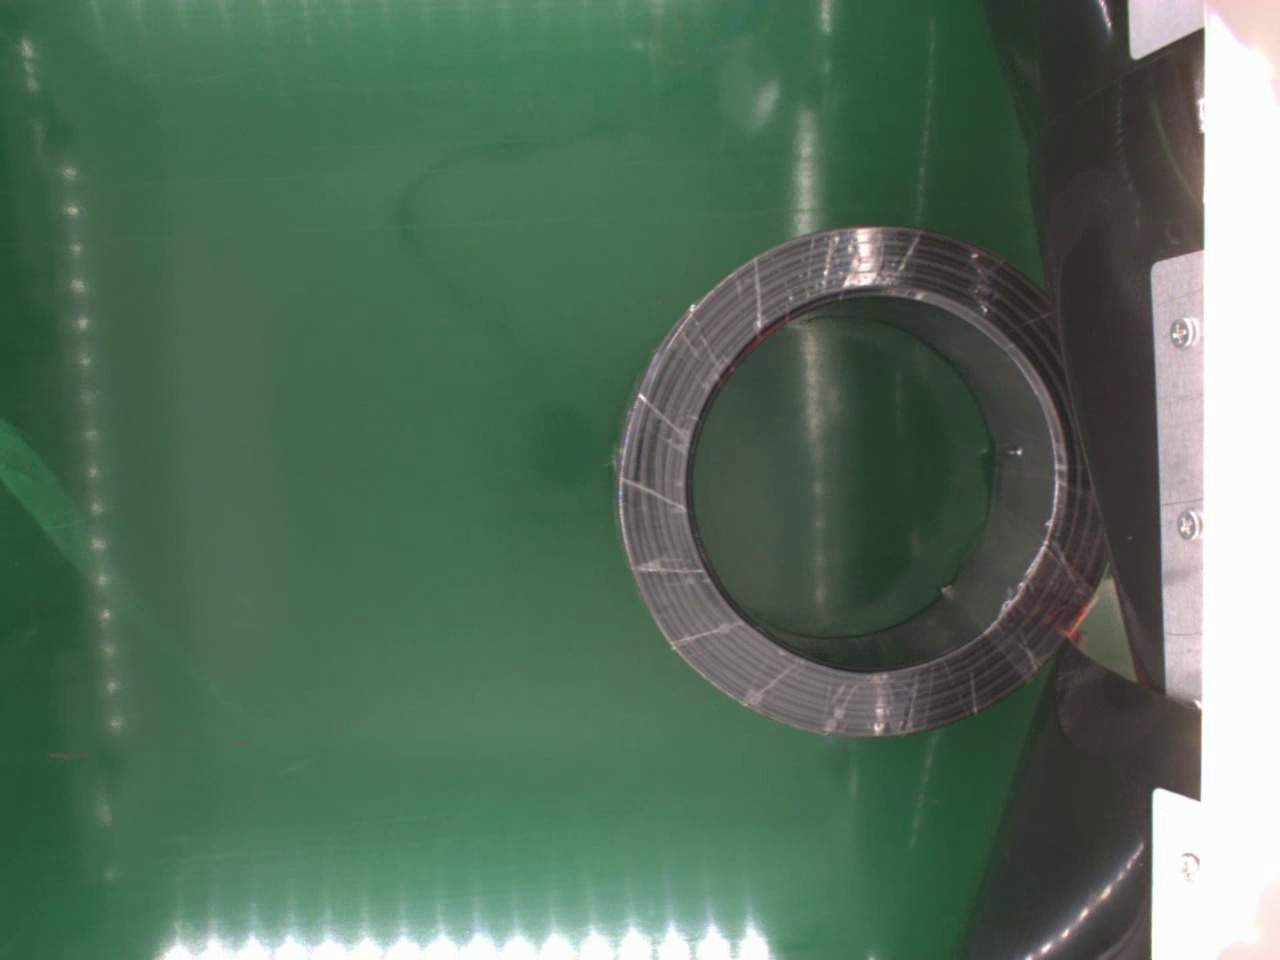black: (611, 225, 1111, 739)
